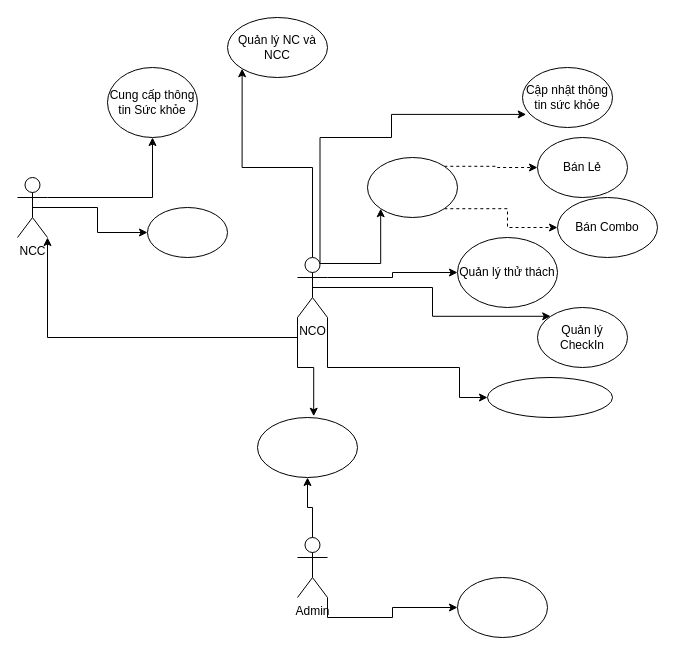
The diagram is 675 pixels wide and 655 high, and some of its shapes have lost their labels. Each missing label, with the centre of its shape:
Bán SP: point 412,187
Mua SP: point 187,232
Quản lý NCO và NC: point 502,607
Quản lý sự kiện: point 549,397
Tạo gói SP: point 307,447
